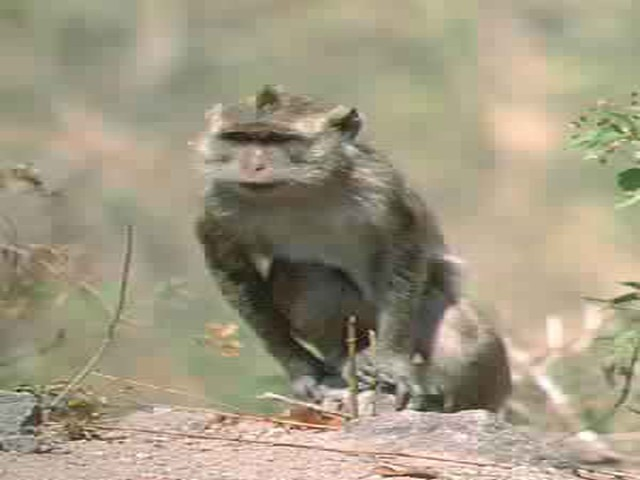Monkey: (189, 82, 522, 415)
